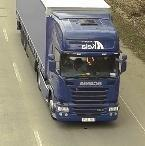truck: (15, 0, 127, 125)
